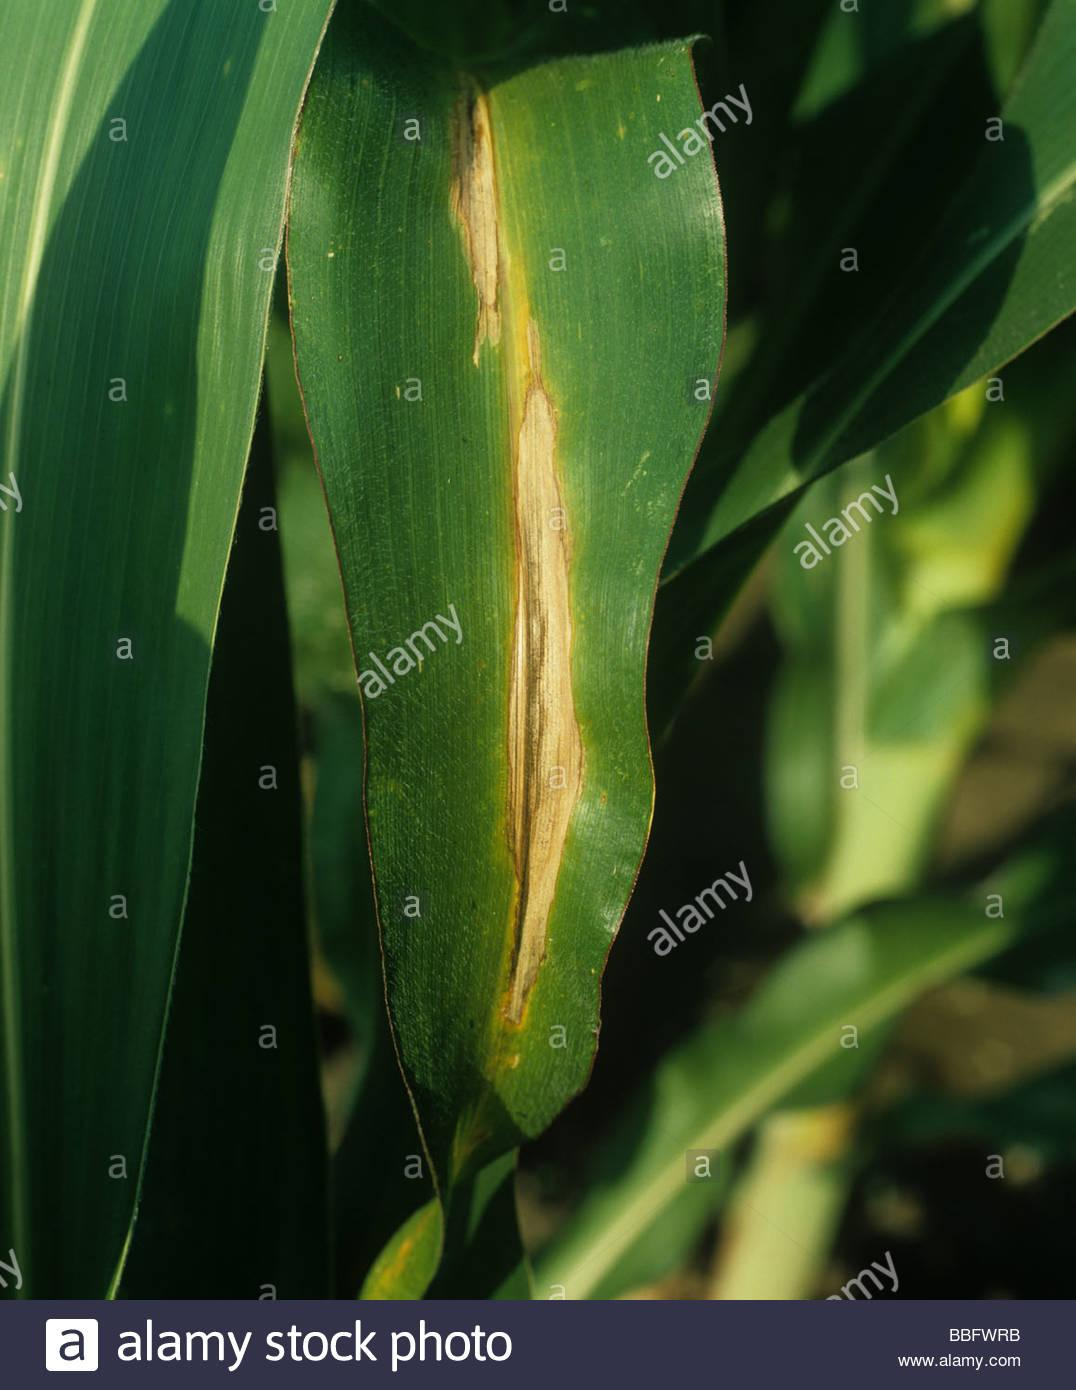Corn leaf blight: (288, 49, 714, 1244)
